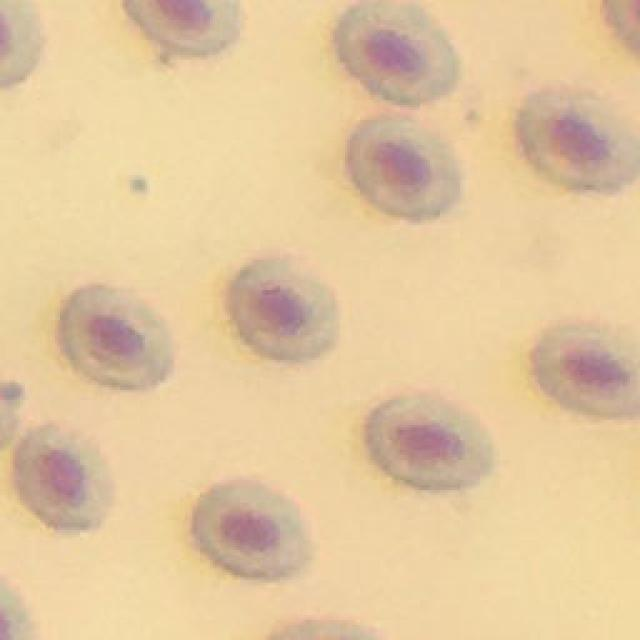RBC: (517, 87, 640, 194), (335, 1, 460, 105), (368, 395, 495, 492), (58, 285, 172, 390), (348, 115, 462, 220), (195, 482, 309, 582), (230, 258, 338, 362), (12, 425, 112, 534), (532, 321, 640, 420), (124, 0, 242, 56), (0, 0, 40, 84)
